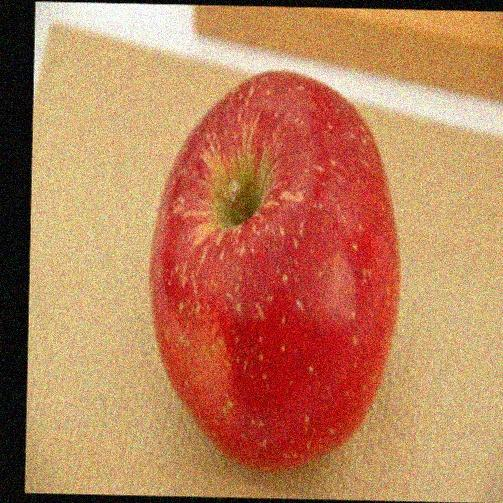red apple: (146, 68, 403, 470)
